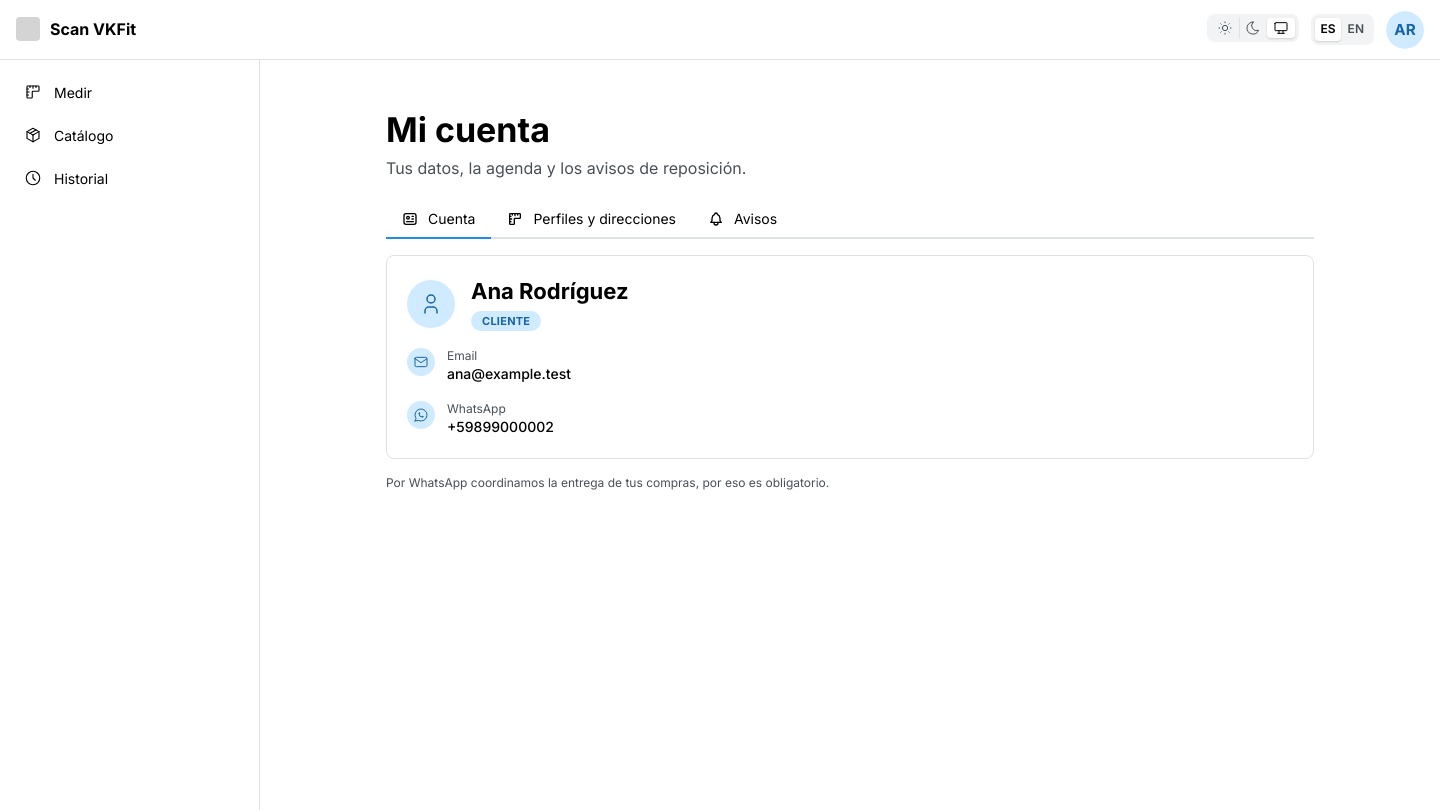
Test case: información de cuenta › las pestañas se pueden cambiar y reflejan el estado en la URL
Expected: the text "ana@example.test" is shown, [447,364,571,385]
Click the tab "Perfiles y direcciones" at (592, 220), box [492,201,692,239]
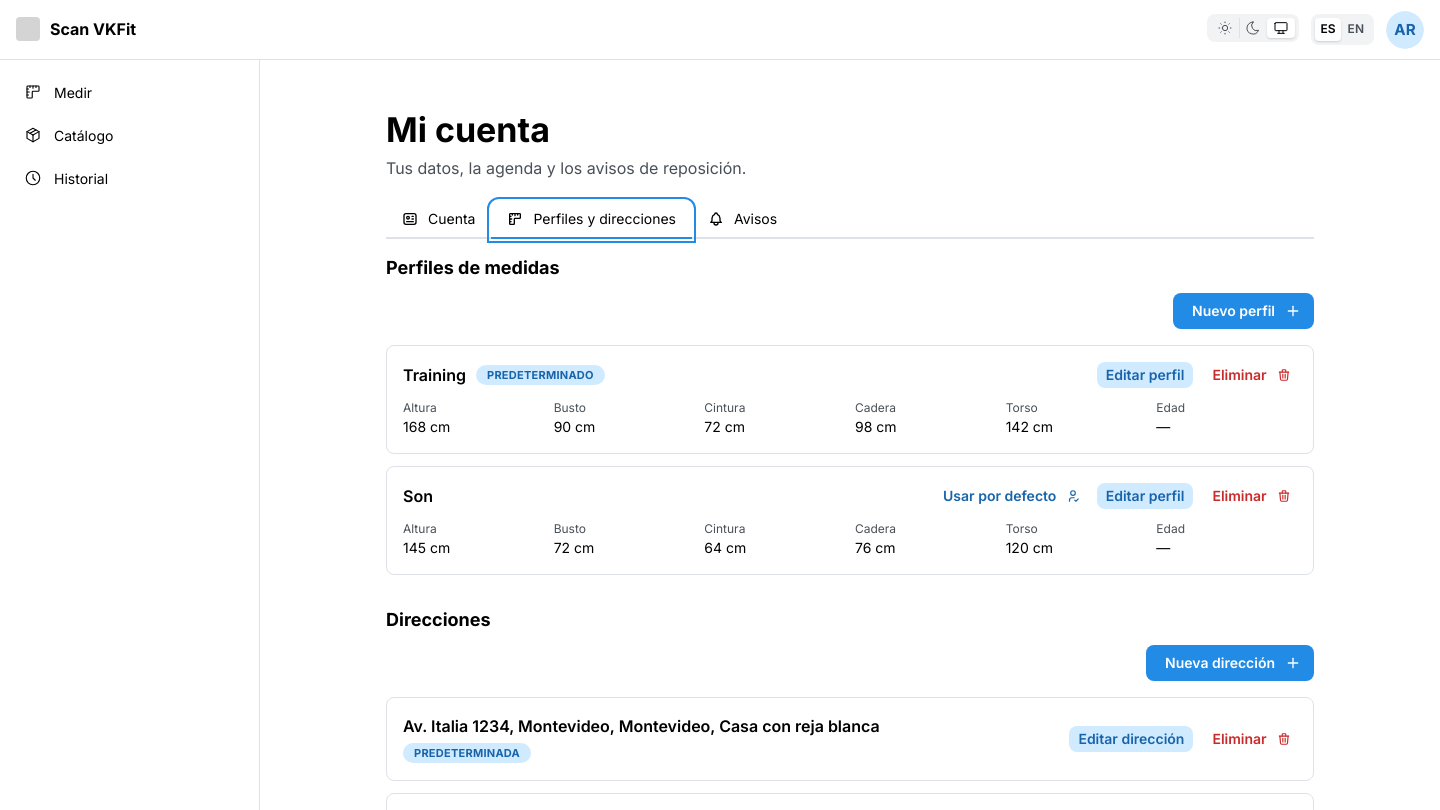
Expected: the text "Training" is shown, [403,363,466,388]
